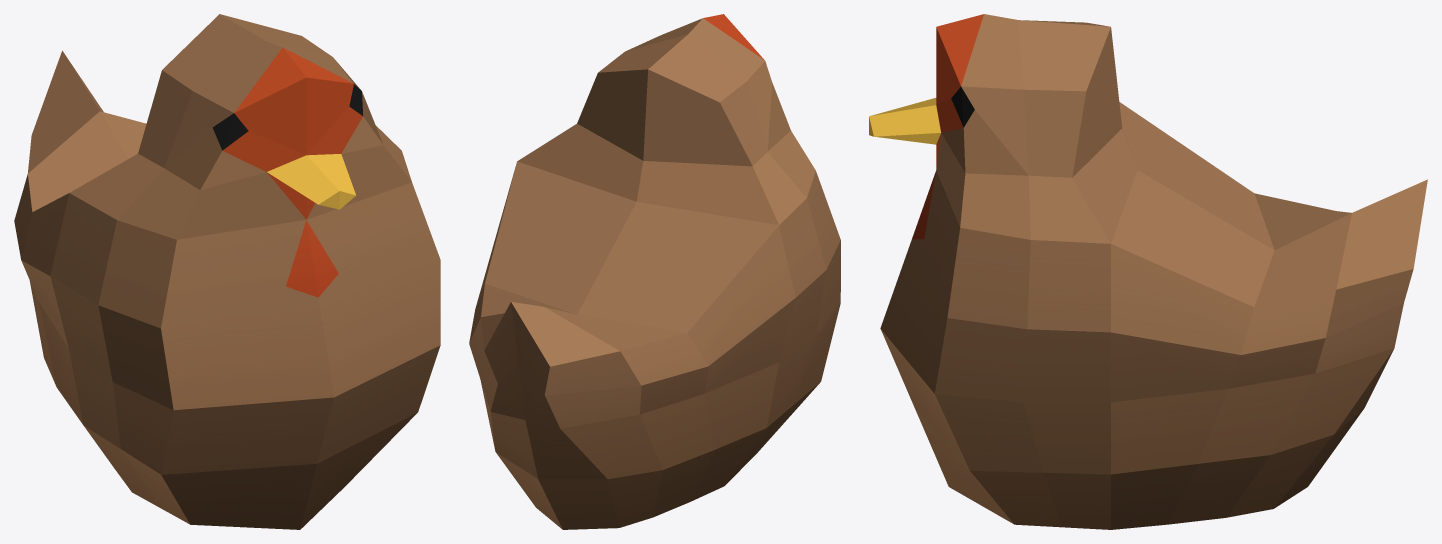
The model's file is Chicken.fbx.
3 views of the same model, side by side, from view 1: azimuth 30°, elevation 25°; view 2: azimuth 150°, elevation 25°; view 3: azimuth 270°, elevation 25° (orthographic). The views are drawn at different scales.
Parts seen in each view (by area): view 1: Cube; view 2: Cube; view 3: Cube.
Part boxes in pixels (x1,y1,x2,y2): Cube: (14, 14, 440, 529); Cube: (469, 14, 840, 529); Cube: (869, 14, 1427, 529).
Size of the model in its own units: 59.67 by 79.11 by 84.71.
1 material, 1 textured.
